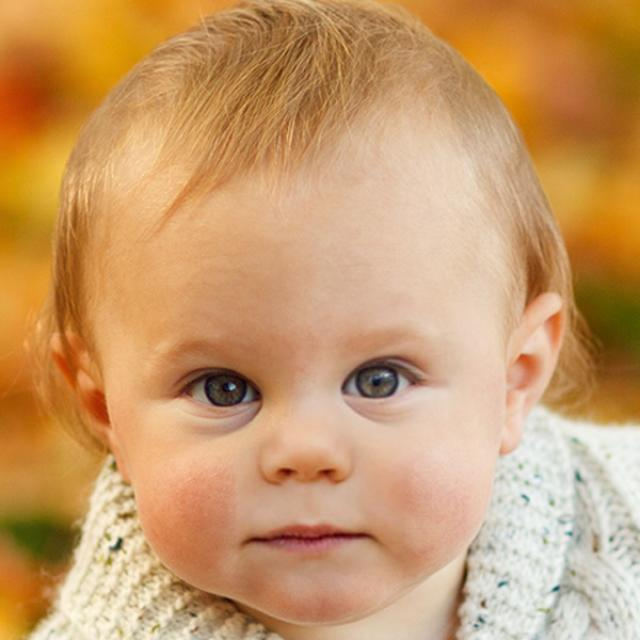face: (50, 43, 577, 626)
